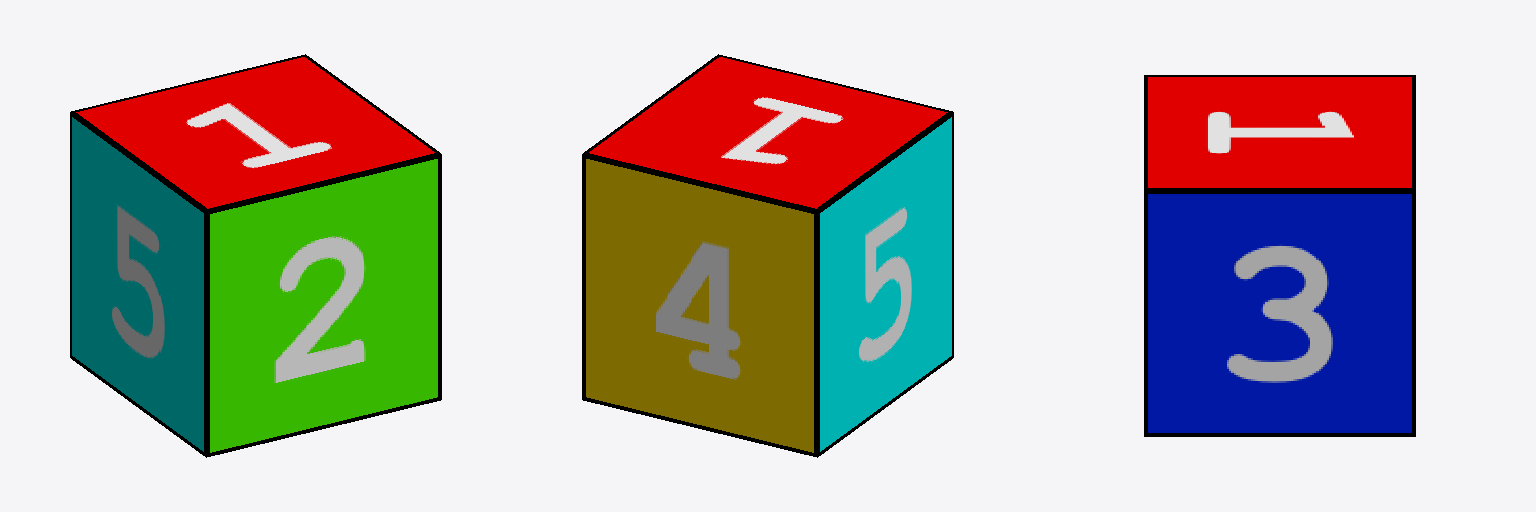
The picture shows the model from 3 angles: view 1: azimuth 30°, elevation 25°; view 2: azimuth 150°, elevation 25°; view 3: azimuth 270°, elevation 25°; orthographic projection.
Parts seen in each view (by area): view 1: Cube_Cube.001; view 2: Cube_Cube.001; view 3: Cube_Cube.001.
Boxes of the visible parts, x1=… form: Cube_Cube.001: x1=70, y1=54, x2=441, y2=457; Cube_Cube.001: x1=582, y1=54, x2=953, y2=457; Cube_Cube.001: x1=1144, y1=75, x2=1415, y2=436.
Bounding box in the file's own units: 2 × 2 × 2.
1 materials, 1 textured.